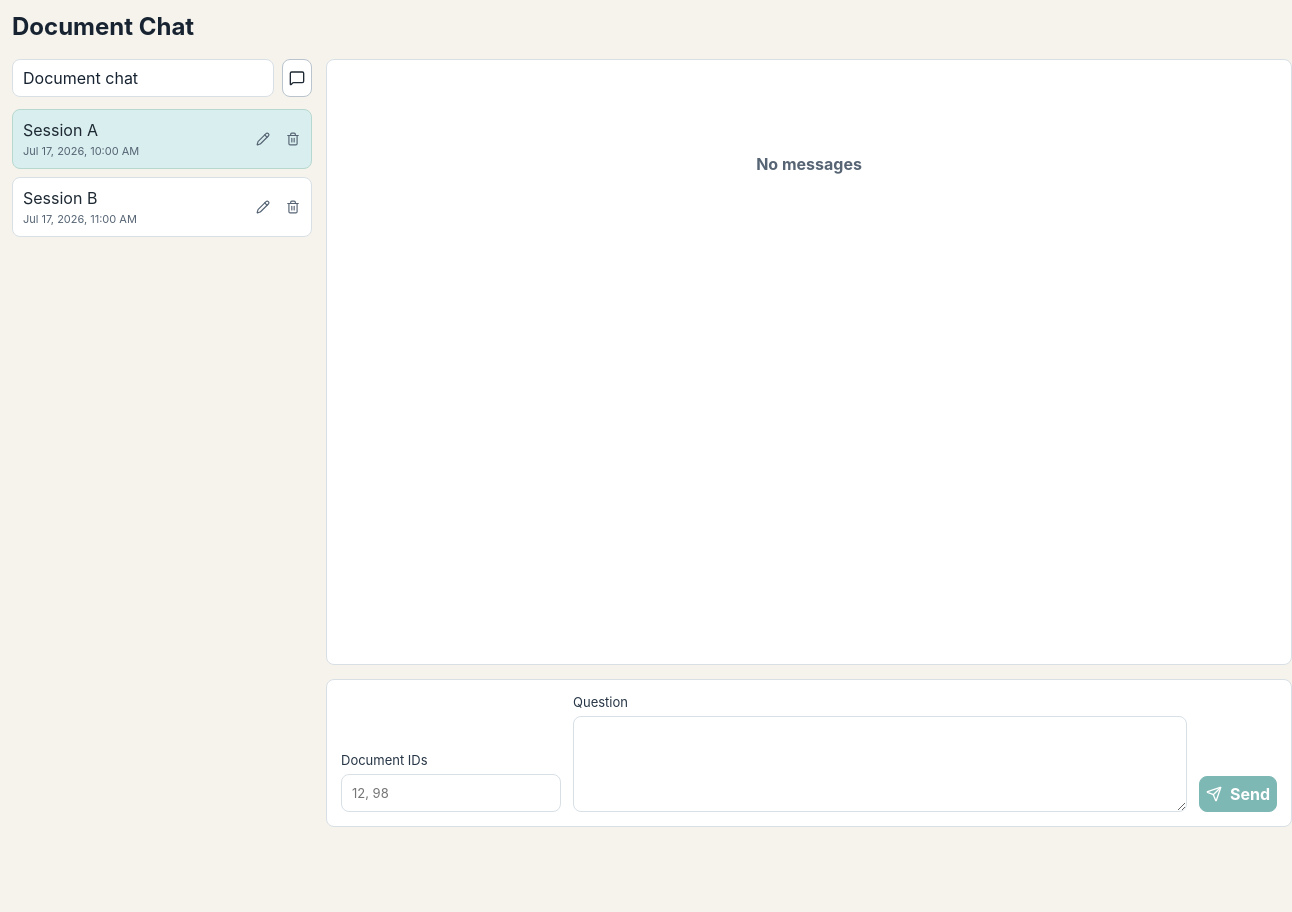
Test case: <DocumentChat> request ownership › keeps B visible when the initial A load resolves after switching sessions
The image size is (1292, 912).
Expected: the button titled "Session A" is shown, [13,110,249,168]
Click the button titled "Session B" at (131, 207), box [13,178,249,236]
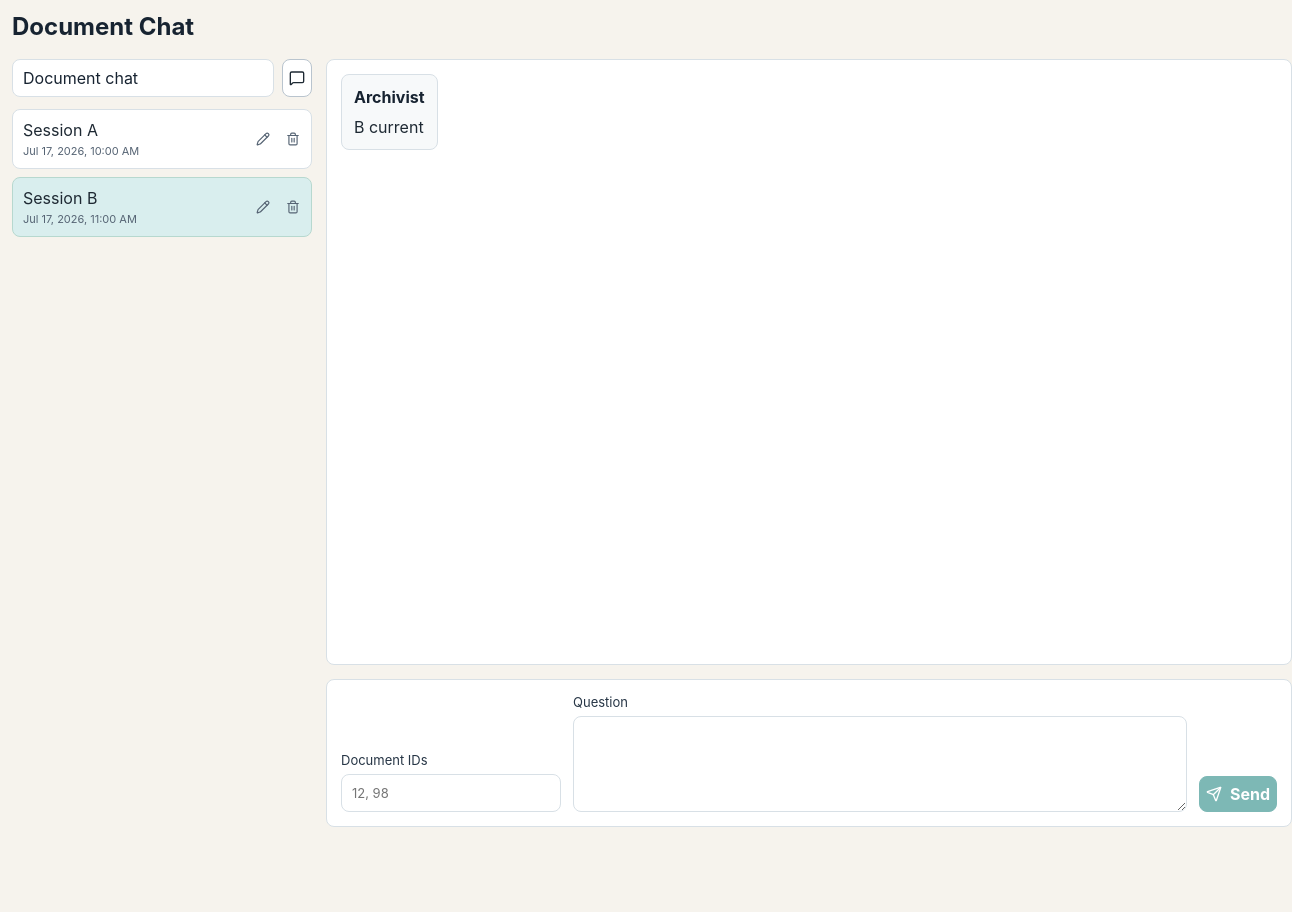
Now the text "B current" is shown, box [354,117,424,137]
